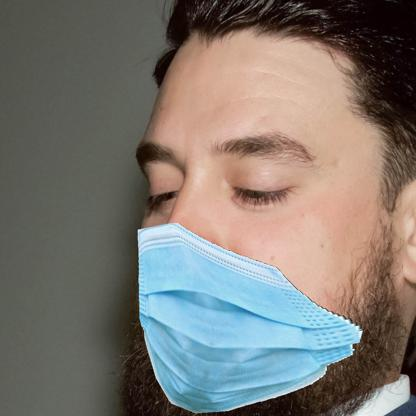mask: (135, 223, 362, 410)
